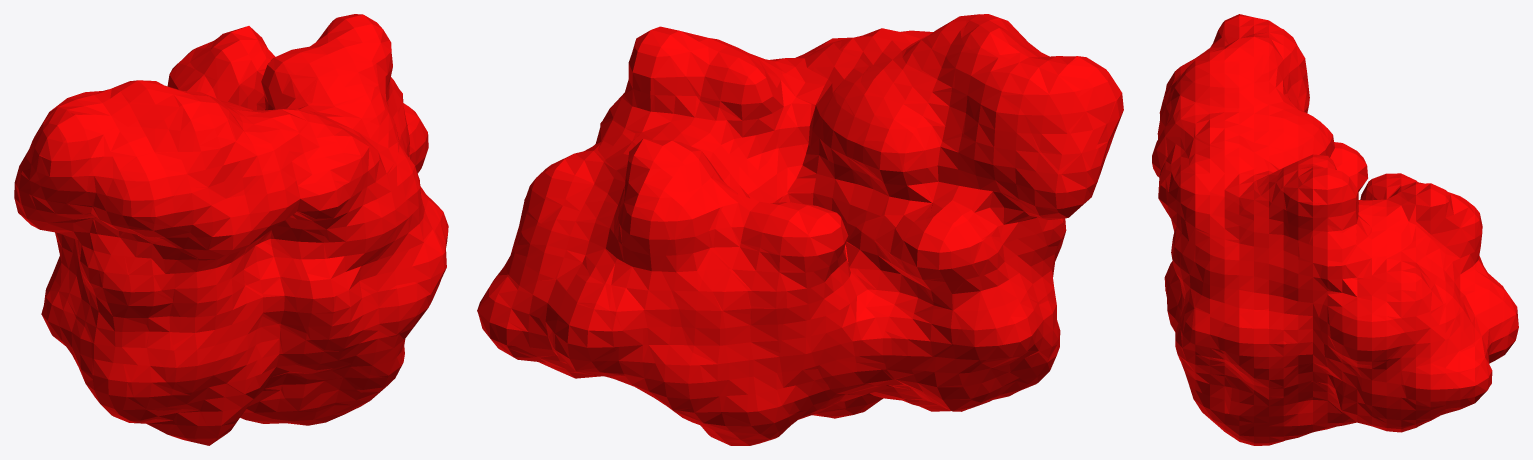
Rendered from nrdA_coarse.dae.
3 views of the same model, side by side, from view 1: azimuth 30°, elevation 25°; view 2: azimuth 150°, elevation 25°; view 3: azimuth 270°, elevation 25° (orthographic). The views are drawn at different scales.
Parts seen in each view (by area): view 1: nrdA; view 2: nrdA; view 3: nrdA.
Part boxes in pixels (x1,y1,x2,y2): nrdA: (14, 14, 448, 445); nrdA: (477, 14, 1123, 445); nrdA: (1152, 14, 1518, 445).
Bounding box in the file's own units: 87.08 × 69.47 × 70.22.
